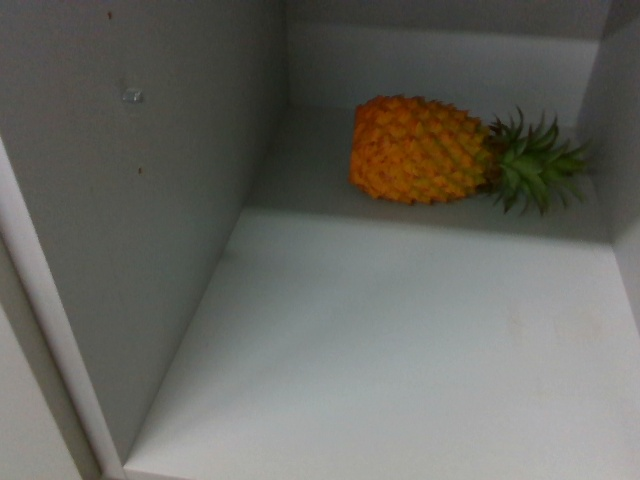pineapple: (350, 92, 587, 226)
